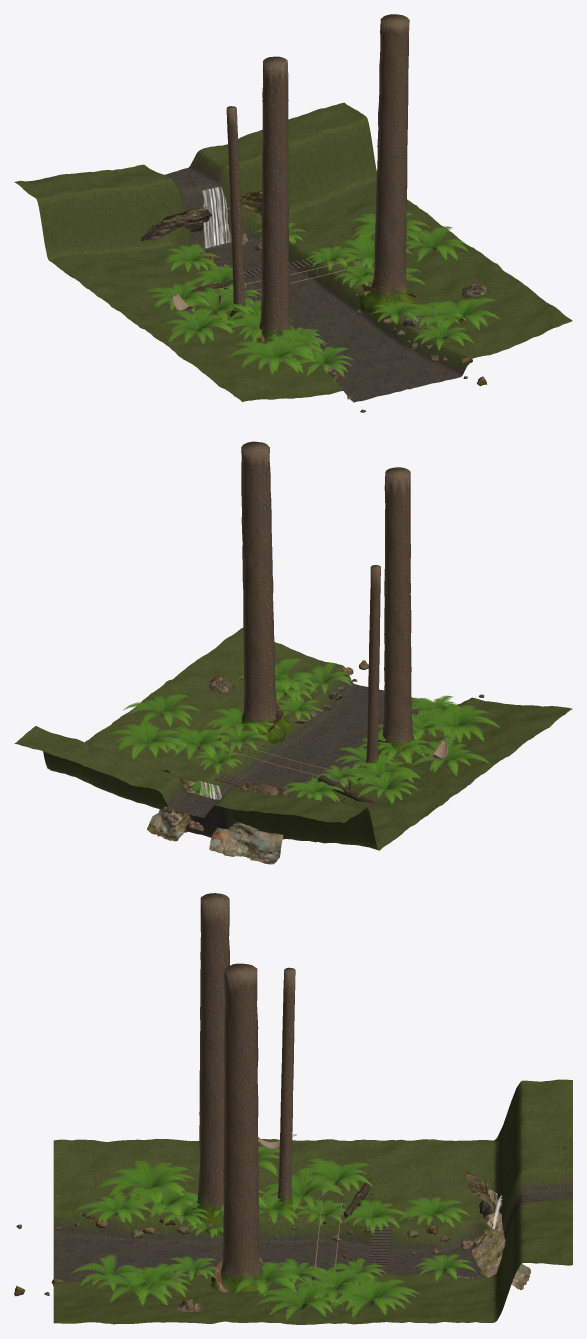
The model's file is diorama.glb.
3 renders of one model, top to bottom at view 1: azimuth 30°, elevation 25°; view 2: azimuth 150°, elevation 25°; view 3: azimuth 270°, elevation 25°, orthographic. The views are drawn at different scales.
Parts seen in each view (by area): view 1: ground, bark, plant, rock, waterfall, bridge; view 2: ground, bark, plant, rock, bridge; view 3: ground, bark, plant, rock, bridge.
Part boxes in pixels (bbox=[...]): ground: bbox=[14, 102, 572, 402]; bark: bbox=[191, 14, 486, 367]; plant: bbox=[143, 212, 500, 377]; rock: bbox=[141, 190, 487, 412]; waterfall: bbox=[202, 187, 230, 248]; bridge: bbox=[212, 258, 366, 304]; ground: bbox=[14, 628, 572, 850]; bark: bbox=[159, 441, 486, 802]; plant: bbox=[107, 658, 500, 803]; rock: bbox=[147, 660, 484, 864]; bridge: bbox=[211, 737, 359, 797]; ground: bbox=[53, 1079, 572, 1324]; bark: bbox=[135, 893, 379, 1311]; plant: bbox=[70, 1146, 476, 1320]; rock: bbox=[14, 1169, 530, 1296]; bridge: bbox=[312, 1197, 391, 1284].
Bounding box in the file's own units: 40.39 × 34.03 × 51.48.
7 materials, 7 textured.
